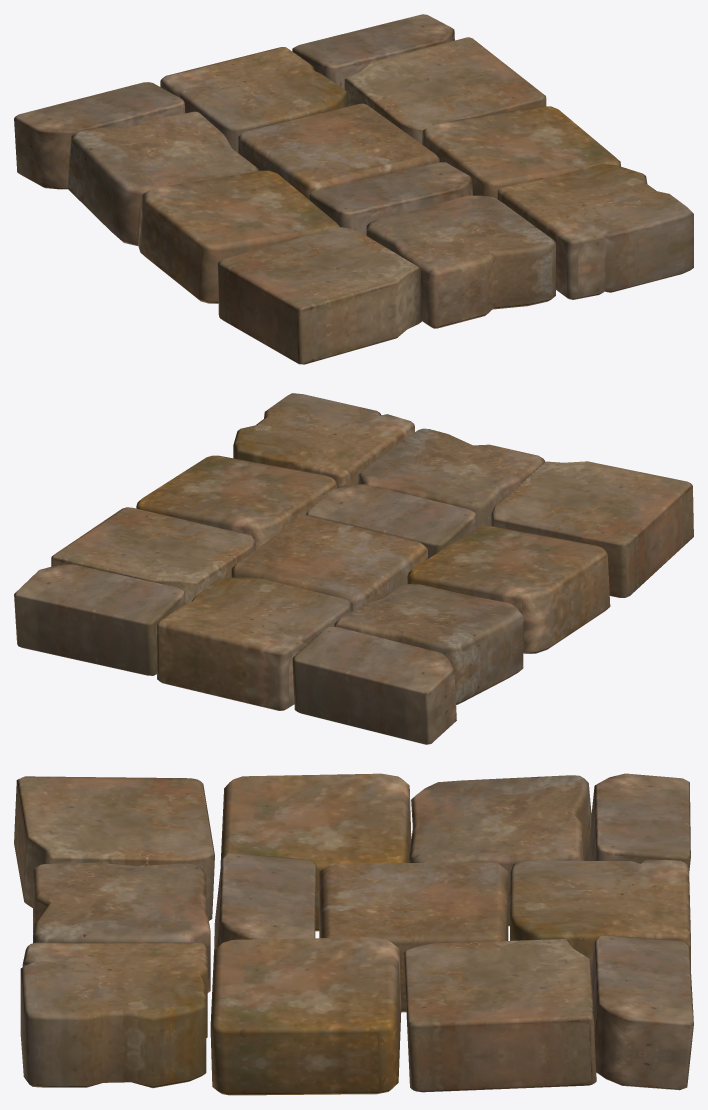
The picture shows the model from 3 angles, top to bottom: view 1: azimuth 30°, elevation 25°; view 2: azimuth 150°, elevation 25°; view 3: azimuth 270°, elevation 25°; orthographic projection. The views are drawn at different scales.
Visible parts, largest first — view 1: SM_DK_Path_01_V3_LOD0; view 2: SM_DK_Path_01_V3_LOD0; view 3: SM_DK_Path_01_V3_LOD0.
Boxes of the visible parts, x1,y1,x2,y2 form: SM_DK_Path_01_V3_LOD0: [14, 14, 693, 364]; SM_DK_Path_01_V3_LOD0: [14, 393, 693, 744]; SM_DK_Path_01_V3_LOD0: [14, 773, 693, 1095].
Size of the model in its own units: 4.03 by 0.6702 by 4.65.
1 material, 1 textured.
